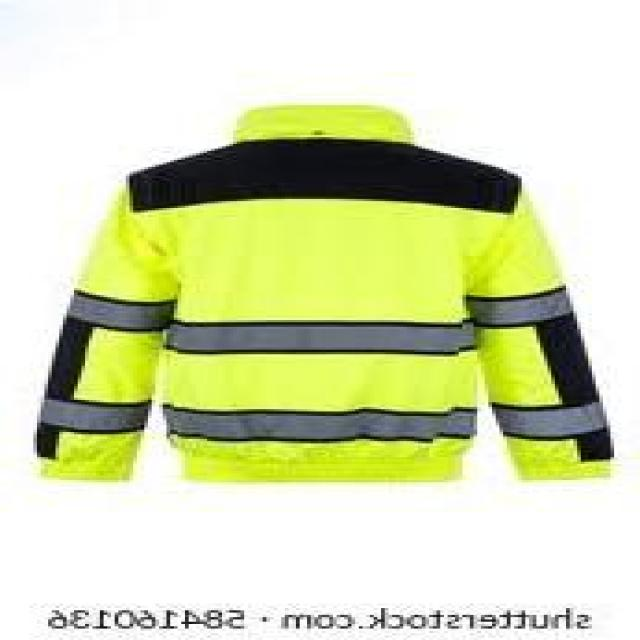Reflective-Jacket: (0, 91, 629, 512)
